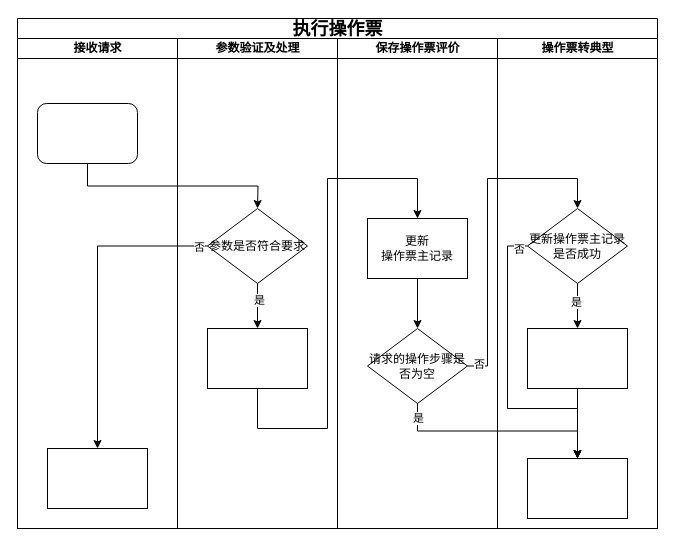
Image size: 675x546. Some labels were removed from this diagram. Here are the shapes that lost their labels. From the top down, the centre of each, then its label:
the point at 87,133: 开始
the point at 257,358: 转换请求参数为 操作票主记录数据对象
the point at 577,358: 更新 操作票操作项
the point at 97,478: 失败返回
the point at 577,488: 成功返回
